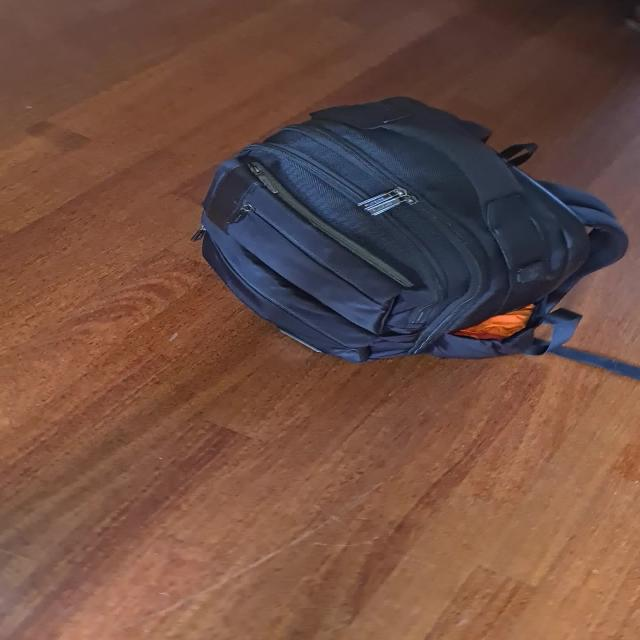backpack: (180, 83, 640, 367)
